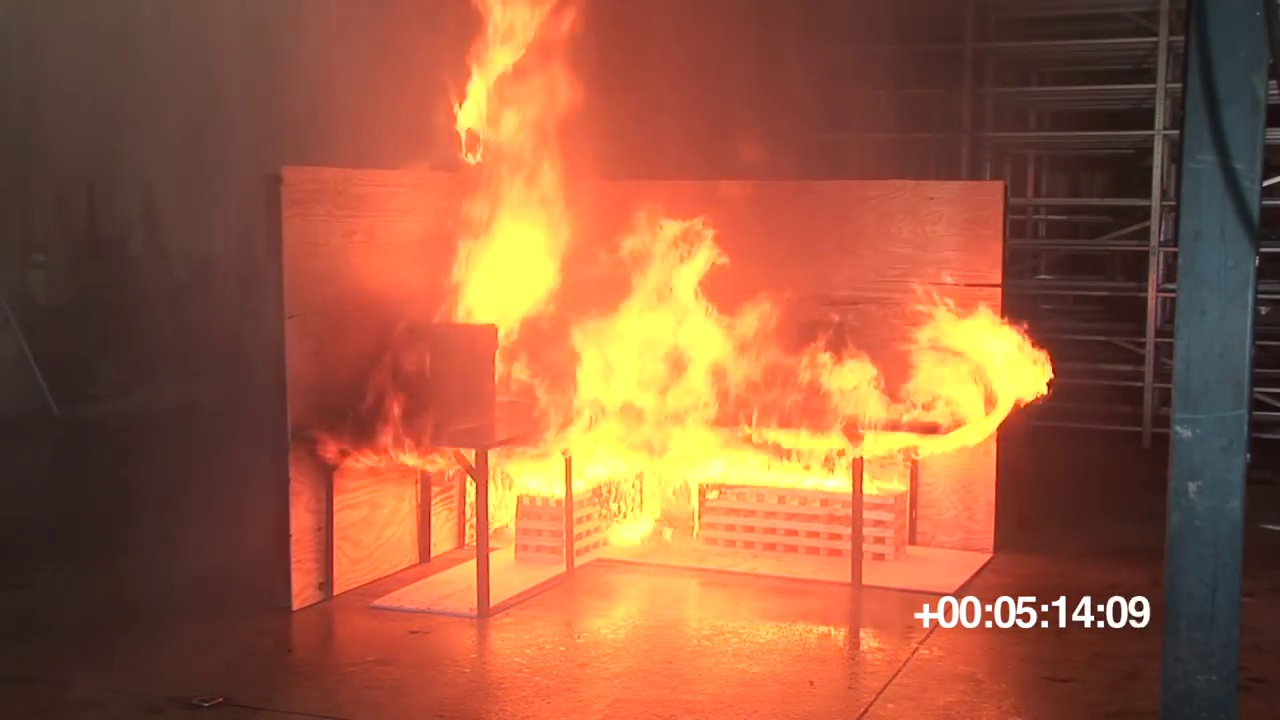fire: (798, 294, 1051, 452), (569, 210, 740, 438), (508, 449, 900, 505), (446, 3, 560, 151), (451, 202, 563, 317)
